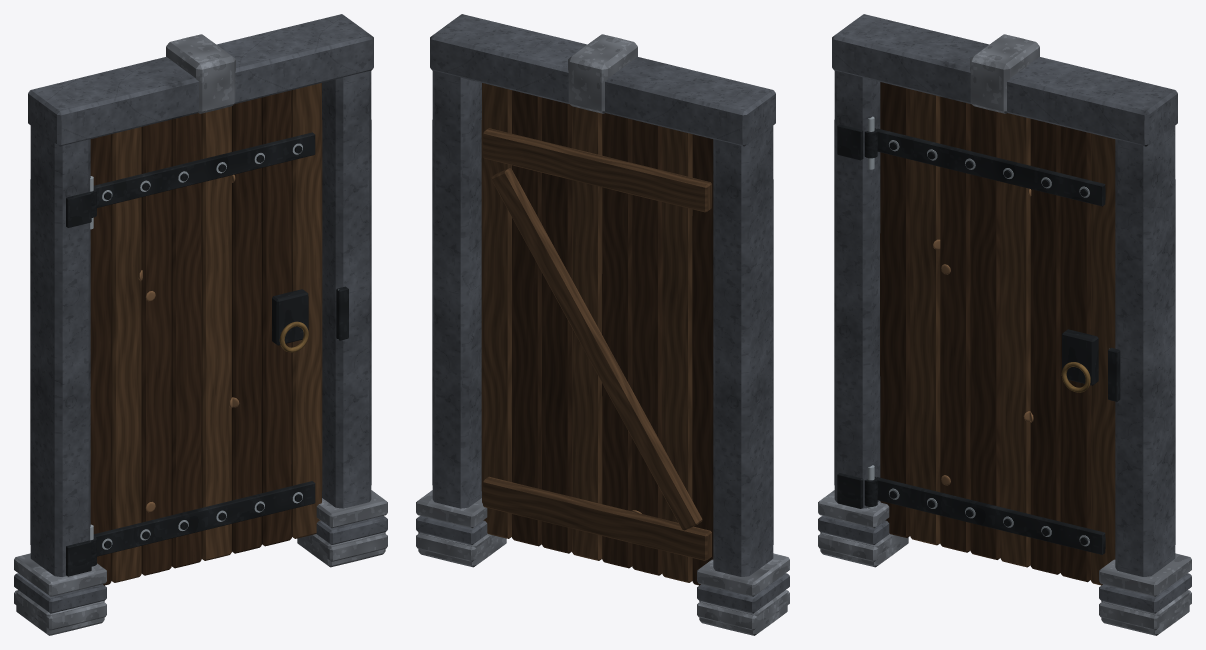
The picture shows the model from 3 angles, left to right: view 1: azimuth 30°, elevation 25°; view 2: azimuth 150°, elevation 25°; view 3: azimuth 330°, elevation 25°; orthographic projection.
Parts seen in each view (by area): view 1: granite-ashlar, quarter-sawn-timber, exposed-end-grain, forged-iron-strapwork (×2), tooled-granite-edges, machined-bearing-steel; view 2: granite-ashlar, exposed-end-grain, quarter-sawn-timber, tooled-granite-edges; view 3: granite-ashlar, quarter-sawn-timber, exposed-end-grain, forged-iron-strapwork (×2), tooled-granite-edges, machined-bearing-steel.
Boxes of the visible parts, <box> form: granite-ashlar: <box>14,14,387,613</box>; quarter-sawn-timber: <box>90,90,291,585</box>; exposed-end-grain: <box>111,83,322,582</box>; forged-iron-strapwork (×2): <box>66,132,348,576</box>; tooled-granite-edges: <box>14,34,387,635</box>; machined-bearing-steel: <box>102,143,302,549</box>; granite-ashlar: <box>416,14,789,613</box>; exposed-end-grain: <box>481,83,711,582</box>; quarter-sawn-timber: <box>512,90,713,585</box>; tooled-granite-edges: <box>416,34,789,635</box>; granite-ashlar: <box>818,14,1191,613</box>; quarter-sawn-timber: <box>880,82,1090,582</box>; exposed-end-grain: <box>910,89,1115,585</box>; forged-iron-strapwork (×2): <box>837,124,1120,554</box>; tooled-granite-edges: <box>818,34,1191,635</box>; machined-bearing-steel: <box>889,140,1089,546</box>.
Size of the model in its own units: 1.69 by 2.55 by 0.32.
9 materials, 7 textured.
